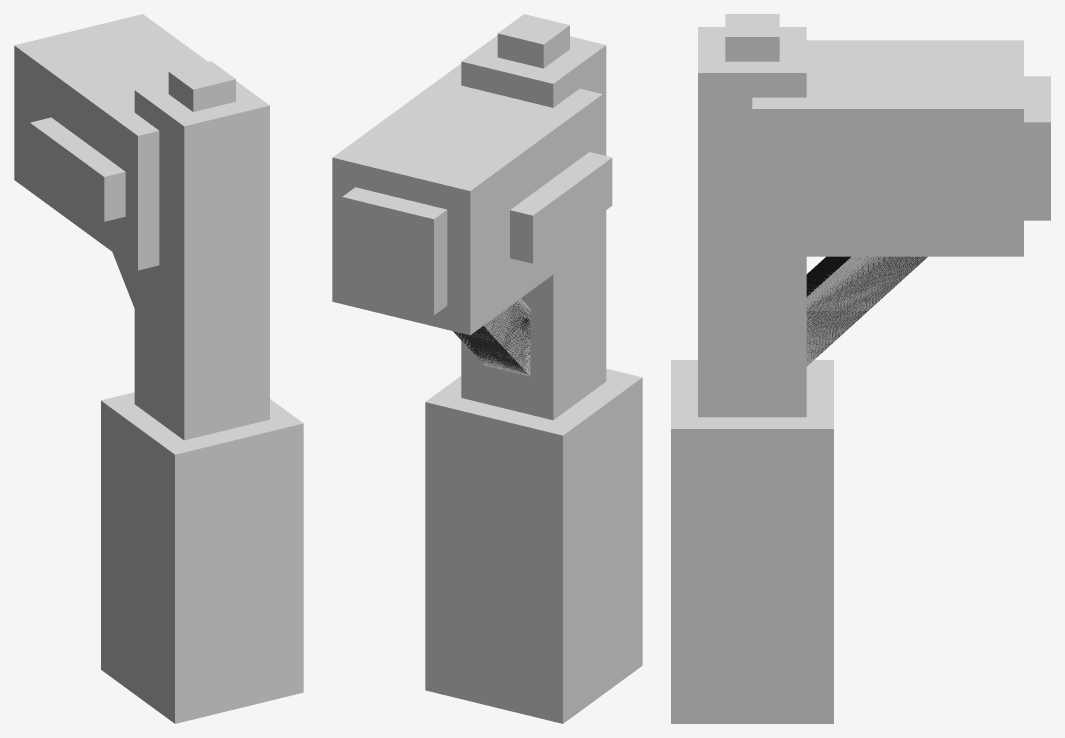
The model's file is mailbox.fbx.
3 renders of one model, left to right at view 1: azimuth 30°, elevation 25°; view 2: azimuth 150°, elevation 25°; view 3: azimuth 270°, elevation 25°, orthographic. The views are drawn at different scales.
Parts seen in each view (by area): view 1: cuboid_5, cuboid, cuboid_1, cuboid_2, cuboid_3, cuboid_6; view 2: cuboid_5, cuboid_1, cuboid, cuboid_4, cuboid_2, cuboid_3, cuboid_7, cuboid_6; view 3: cuboid_1, cuboid_5, cuboid, cuboid_6, cuboid_7, cuboid_4, cuboid_3.
Part boxes in pixels (left/top/right/bottom): cuboid_5: left=101, top=392, right=303, bottom=723; cuboid: left=134, top=81, right=269, bottom=440; cuboid_1: left=14, top=14, right=207, bottom=270; cuboid_2: left=30, top=117, right=125, bottom=221; cuboid_3: left=168, top=61, right=235, bottom=111; cuboid_6: left=112, top=252, right=134, bottom=307; cuboid_5: left=425, top=368, right=642, bottom=723; cuboid_1: left=332, top=63, right=602, bottom=335; cuboid: left=461, top=35, right=606, bottom=420; cuboid_4: left=342, top=187, right=447, bottom=315; cuboid_2: left=510, top=152, right=612, bottom=263; cuboid_3: left=497, top=14, right=569, bottom=68; cuboid_7: left=453, top=299, right=530, bottom=375; cuboid_6: left=454, top=298, right=530, bottom=376; cuboid_1: left=752, top=40, right=1023, bottom=256; cuboid_5: left=671, top=360, right=833, bottom=723; cuboid: left=698, top=27, right=806, bottom=417; cuboid_6: left=806, top=256, right=927, bottom=366; cuboid_7: left=806, top=256, right=927, bottom=362; cuboid_4: left=1024, top=76, right=1050, bottom=220; cuboid_3: left=725, top=14, right=779, bottom=61.
Bounding box in the file's own units: 43.75 × 169 × 87.5.
Materials: 1 (1 with a texture image).
